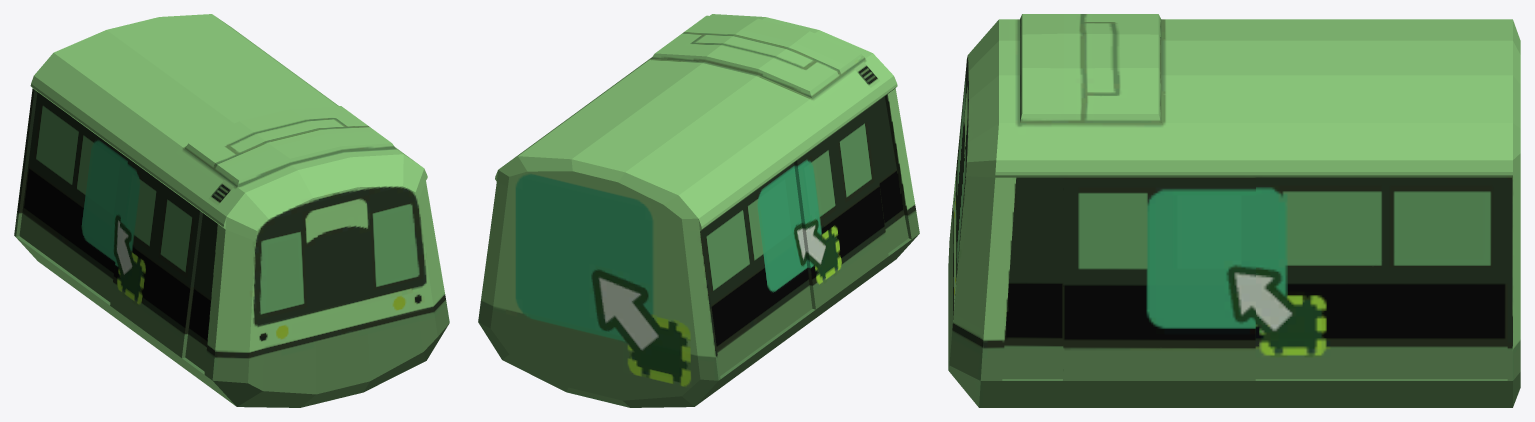
The model's file is MovingPlatformMRT_BlackGrow.fbx.
The picture shows the model from 3 angles, left to right: view 1: azimuth 30°, elevation 25°; view 2: azimuth 150°, elevation 25°; view 3: azimuth 270°, elevation 25°; orthographic projection. The views are drawn at different scales.
Parts seen in each view (by area): view 1: Cube.016; view 2: Cube.016; view 3: Cube.016.
Boxes of the visible parts, x1=… form: Cube.016: x1=14, y1=14, x2=449, y2=407; Cube.016: x1=478, y1=14, x2=919, y2=407; Cube.016: x1=948, y1=14, x2=1520, y2=407.
Bounding box in the file's own units: 276 × 263 × 430.
